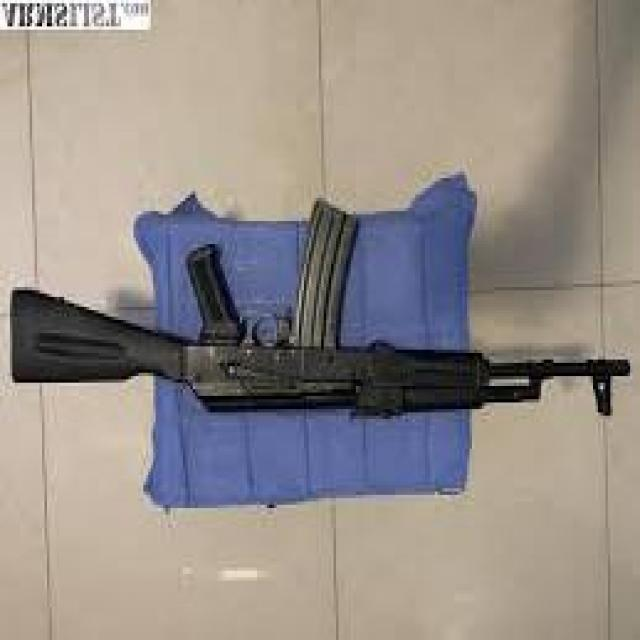weapon: (8, 194, 632, 420)
